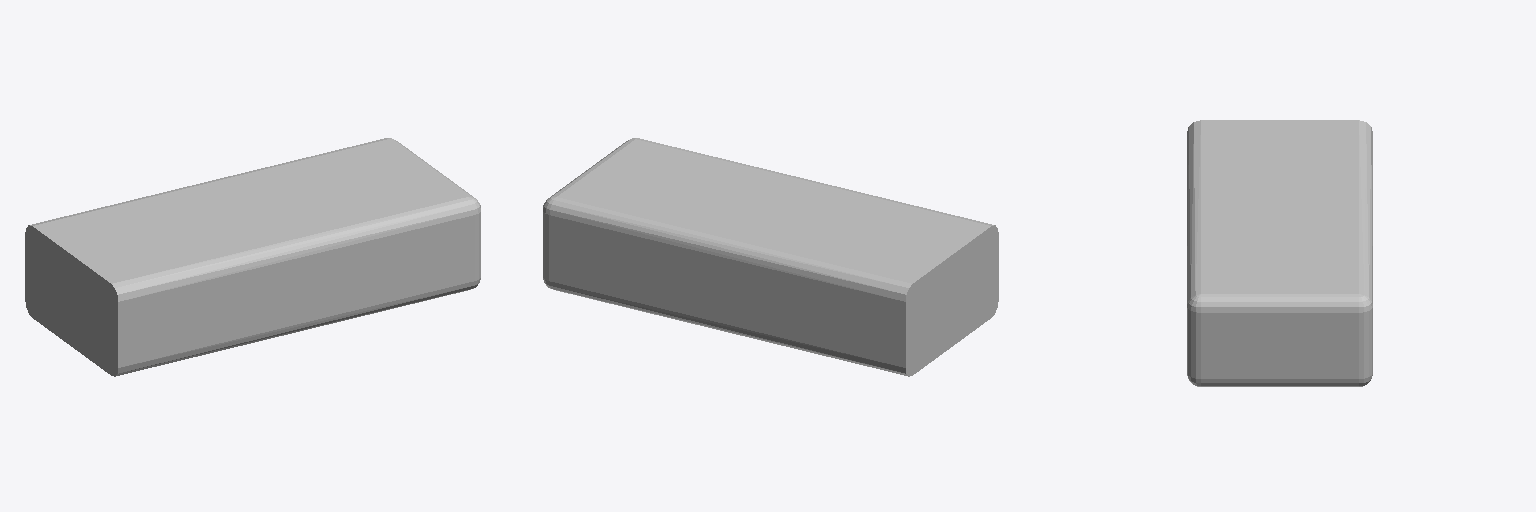
Rendered from r_gripper_finger_link.obj.
The picture shows the model from 3 angles: view 1: azimuth 30°, elevation 25°; view 2: azimuth 150°, elevation 25°; view 3: azimuth 270°, elevation 25°; orthographic projection.
Visible parts, largest first — view 1: r_gripper_finger_link; view 2: r_gripper_finger_link; view 3: r_gripper_finger_link.
Boxes of the visible parts, <box> form: r_gripper_finger_link: <box>25,138,480,376</box>; r_gripper_finger_link: <box>543,138,998,376</box>; r_gripper_finger_link: <box>1187,120,1372,386</box>.
Bounding box in the file's own units: 0.06 × 0.0143 × 0.0263.